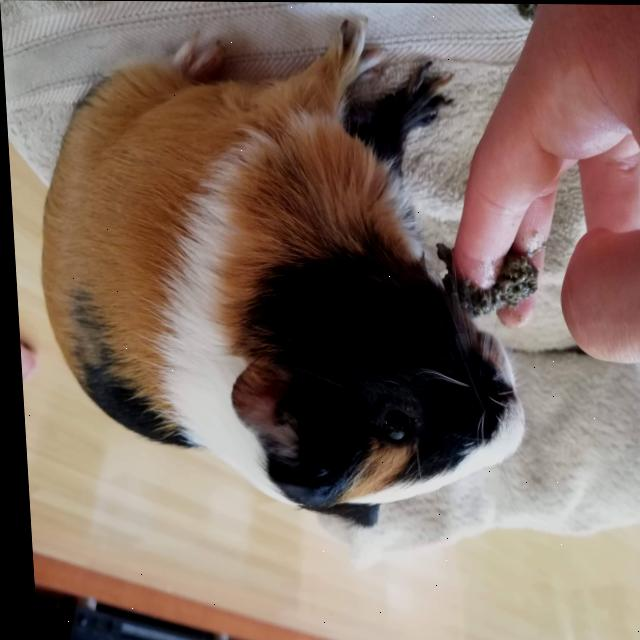guinea pig: (21, 12, 528, 535)
